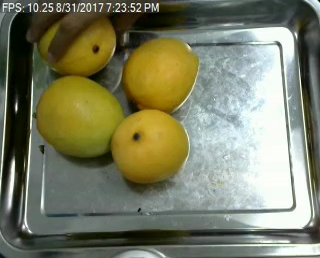Mango: (36, 75, 124, 159), (109, 109, 188, 184), (123, 36, 198, 111), (36, 11, 114, 73)
